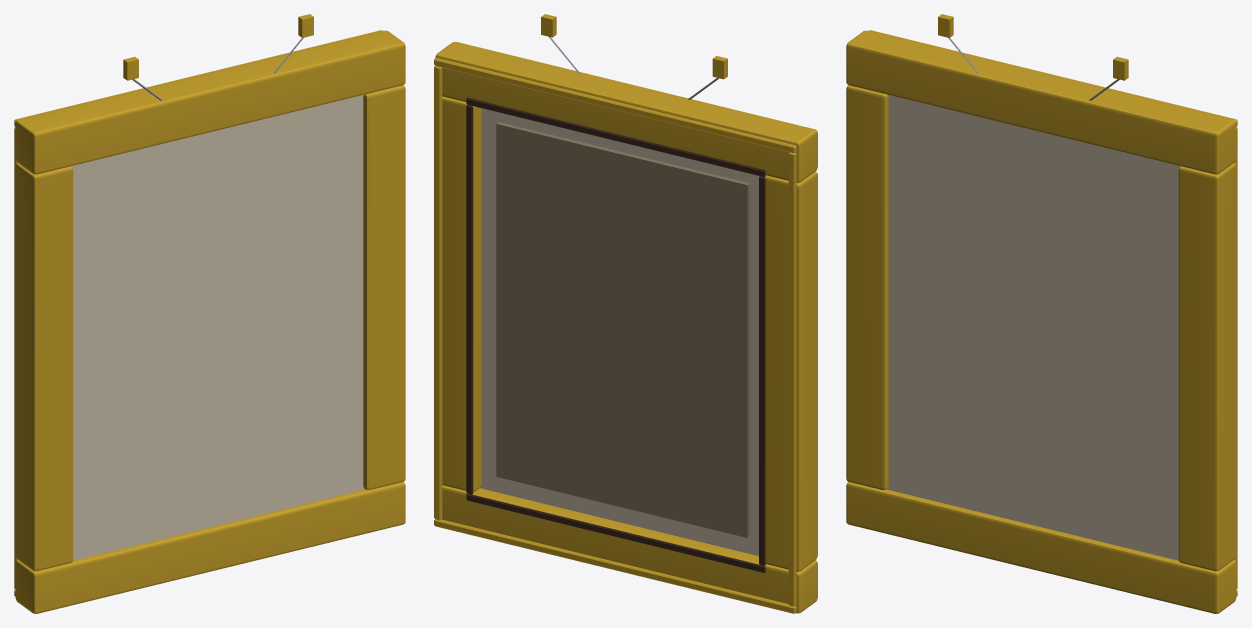
The model's file is prop_canvas_study4.glb.
3 views of the same model, side by side, from view 1: azimuth 30°, elevation 25°; view 2: azimuth 150°, elevation 25°; view 3: azimuth 330°, elevation 25° (orthographic). The views are drawn at different scales.
Visible parts, largest first — view 1: Canvas, Hooks; view 2: Canvas, Paint, Hooks; view 3: Canvas, Hooks.
Boxes of the visible parts, <box> form: Canvas: <box>14,30,405,613</box>; Hooks: <box>123,14,313,100</box>; Canvas: <box>434,41,817,613</box>; Paint: <box>496,122,750,537</box>; Hooks: <box>541,14,727,99</box>; Canvas: <box>846,30,1237,613</box>; Hooks: <box>938,14,1128,100</box>.
Size of the model in its own units: 0.64 by 0.87 by 0.068.
